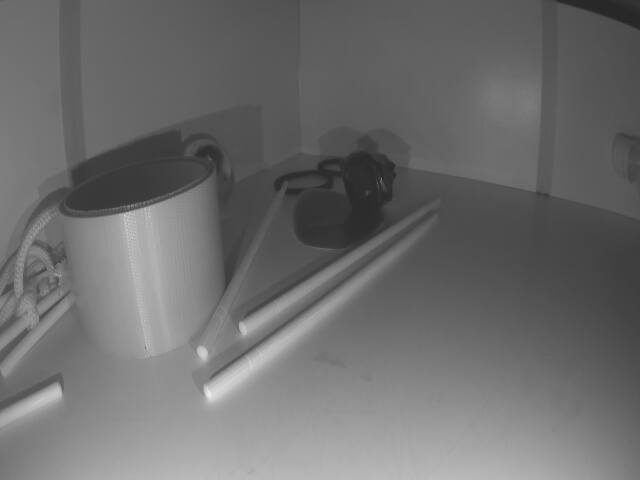Dead: (340, 150, 399, 212)
